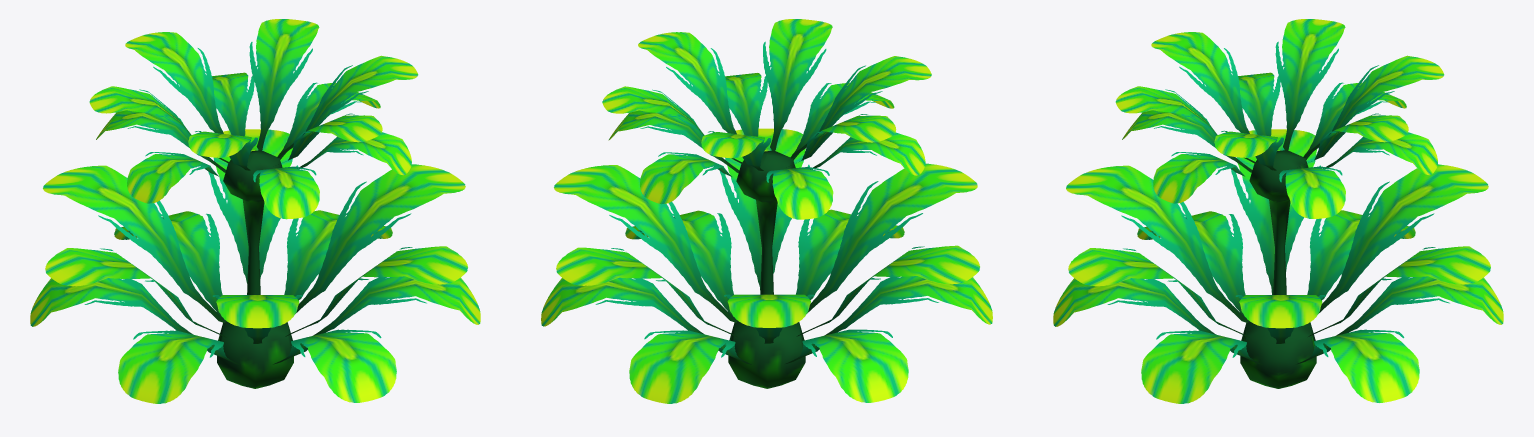
File: Green_Bush_01b.FBX
3 views of the same model, side by side, from view 1: azimuth 30°, elevation 25°; view 2: azimuth 150°, elevation 25°; view 3: azimuth 270°, elevation 25° (orthographic).
Visible parts, largest first — view 1: Green_Bush_01b; view 2: Green_Bush_01b; view 3: Green_Bush_01b.
Boxes of the visible parts, box(x1,y1,x2,y2) form: Green_Bush_01b: box(30, 19, 480, 403); Green_Bush_01b: box(541, 19, 992, 403); Green_Bush_01b: box(1053, 19, 1503, 403).
Bounding box in the file's own units: 165 × 110 × 161.
